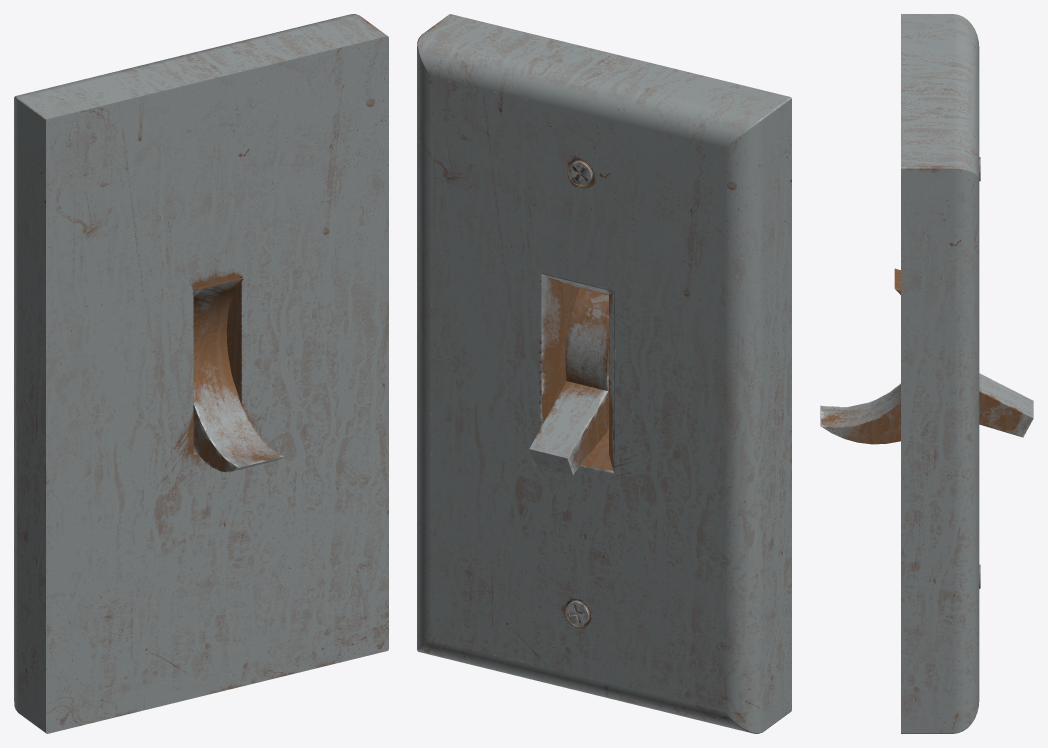
Rendered from switch.fbx.
3 renders of one model, left to right at view 1: azimuth 30°, elevation 25°; view 2: azimuth 150°, elevation 25°; view 3: azimuth 270°, elevation 25°, orthographic. The views are drawn at different scales.
Visible parts, largest first — view 1: Body_DefaultMaterial_1; view 2: Body_DefaultMaterial_1; view 3: Body_DefaultMaterial_1.
Boxes of the visible parts, bbox=[...] form: Body_DefaultMaterial_1: bbox=[14, 14, 388, 733]; Body_DefaultMaterial_1: bbox=[417, 14, 791, 733]; Body_DefaultMaterial_1: bbox=[820, 14, 1033, 733].
Size of the model in its own units: 0.07 by 0.12 by 0.041.
1 material, 1 textured.
